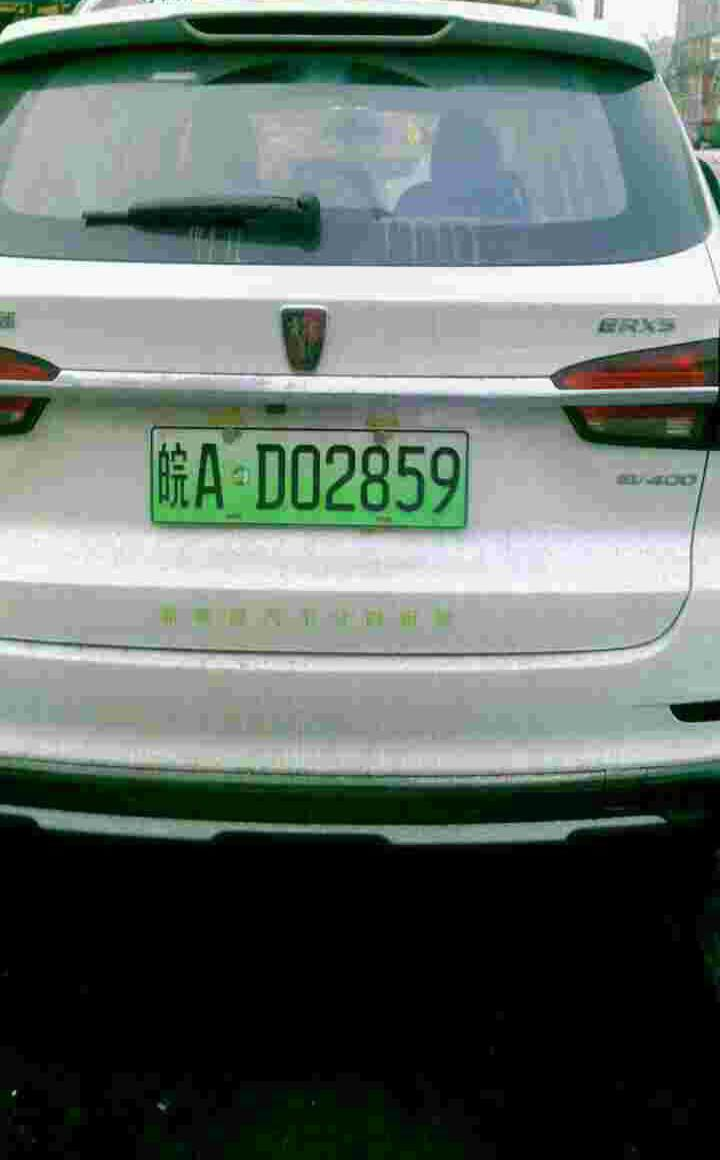car_id: (151, 426, 469, 528)
